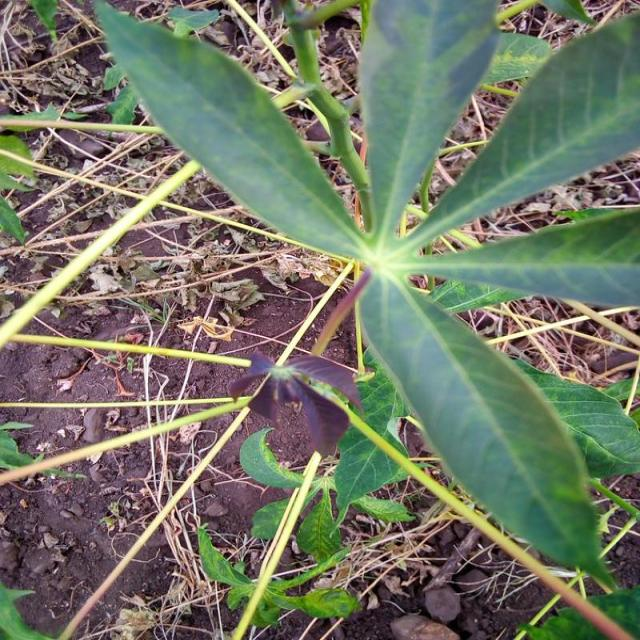cassava leaf: (91, 0, 638, 593), (358, 266, 618, 594), (92, 0, 369, 262)
